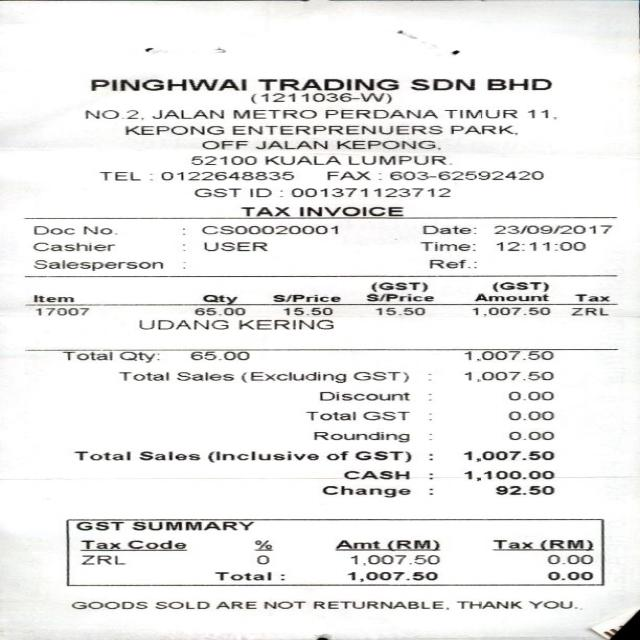text: (232, 125, 441, 134), (90, 79, 246, 90), (256, 79, 398, 90), (290, 187, 448, 196), (34, 259, 162, 270), (250, 92, 390, 102), (387, 171, 542, 180), (206, 451, 318, 462), (201, 225, 337, 234), (160, 171, 292, 180), (240, 371, 345, 382), (312, 601, 446, 609), (492, 224, 610, 233), (313, 431, 407, 442), (323, 109, 436, 118), (463, 469, 553, 480), (131, 521, 253, 529), (464, 350, 552, 361), (321, 485, 408, 496), (334, 140, 439, 149), (299, 206, 403, 215), (123, 125, 223, 134), (494, 240, 584, 250), (463, 451, 553, 461), (349, 554, 439, 564), (346, 571, 436, 581), (238, 320, 332, 329), (318, 391, 408, 400), (138, 320, 227, 329), (347, 155, 446, 163), (464, 372, 552, 381), (408, 78, 473, 90), (486, 78, 551, 90), (472, 306, 549, 316), (232, 109, 316, 118), (30, 242, 114, 250), (444, 109, 516, 118), (254, 140, 325, 149), (152, 109, 222, 118), (262, 155, 339, 163), (448, 125, 516, 134), (351, 371, 406, 382), (474, 292, 548, 300), (189, 155, 254, 164), (540, 539, 592, 550), (387, 539, 439, 550), (490, 281, 547, 291), (370, 281, 426, 291), (203, 241, 265, 250), (138, 451, 200, 460), (353, 451, 408, 461), (365, 293, 433, 301), (271, 293, 339, 301), (71, 601, 147, 608), (189, 350, 248, 359), (72, 451, 131, 460), (342, 470, 408, 478), (494, 485, 552, 494), (85, 109, 142, 118), (418, 241, 472, 250), (455, 601, 521, 608), (428, 258, 474, 268), (117, 372, 168, 381), (175, 372, 232, 380), (213, 572, 270, 580), (240, 206, 290, 215), (127, 540, 183, 548), (62, 351, 111, 360), (547, 554, 591, 564), (192, 187, 240, 196), (421, 225, 475, 233), (33, 307, 87, 315), (306, 411, 354, 420), (118, 351, 157, 362), (507, 410, 552, 419), (362, 411, 407, 420), (202, 140, 246, 149), (507, 391, 551, 400), (547, 571, 591, 580), (75, 521, 124, 529), (326, 171, 369, 180), (154, 601, 209, 608), (194, 307, 242, 315), (376, 307, 424, 315), (98, 171, 139, 180), (284, 307, 330, 315), (334, 540, 380, 548), (80, 555, 124, 563), (528, 601, 575, 608), (507, 431, 552, 438), (33, 225, 72, 233), (33, 294, 72, 302), (493, 540, 532, 548), (201, 294, 235, 303), (81, 540, 119, 548), (571, 307, 608, 315), (214, 601, 256, 608), (262, 601, 304, 608), (574, 293, 609, 301), (83, 226, 117, 234), (325, 450, 348, 460), (253, 539, 272, 550), (526, 109, 548, 118), (249, 187, 271, 196), (255, 555, 268, 563)
